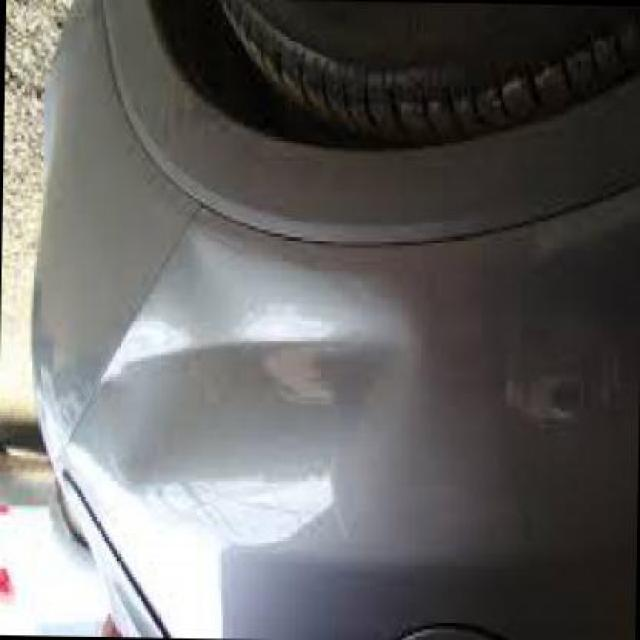dent: (78, 332, 375, 597)
